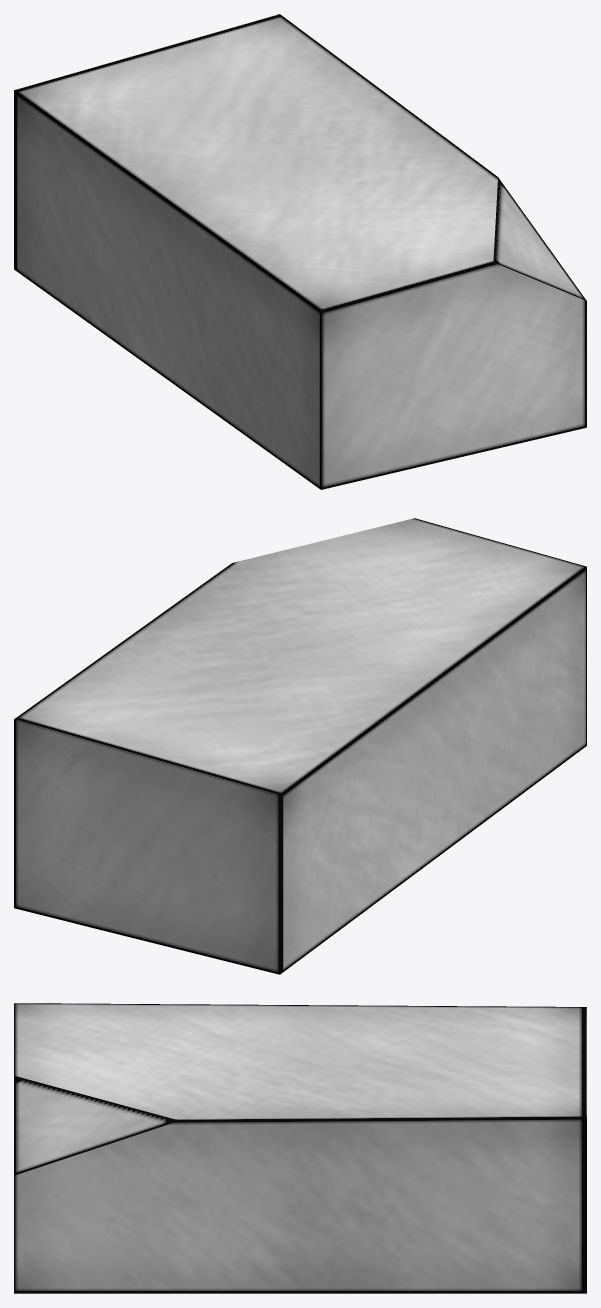
Rendered from Brick02.fbx.
3 renders of one model, top to bottom at view 1: azimuth 30°, elevation 25°; view 2: azimuth 150°, elevation 25°; view 3: azimuth 270°, elevation 25°, orthographic. The views are drawn at different scales.
Parts seen in each view (by area): view 1: Würfel; view 2: Würfel; view 3: Würfel.
Boxes of the visible parts, bbox=[...] form: Würfel: bbox=[14, 14, 586, 489]; Würfel: bbox=[14, 518, 586, 974]; Würfel: bbox=[14, 1003, 586, 1293].
Size of the model in its own units: 45 by 30.82 by 90.
Materials: 1 (1 with a texture image).
